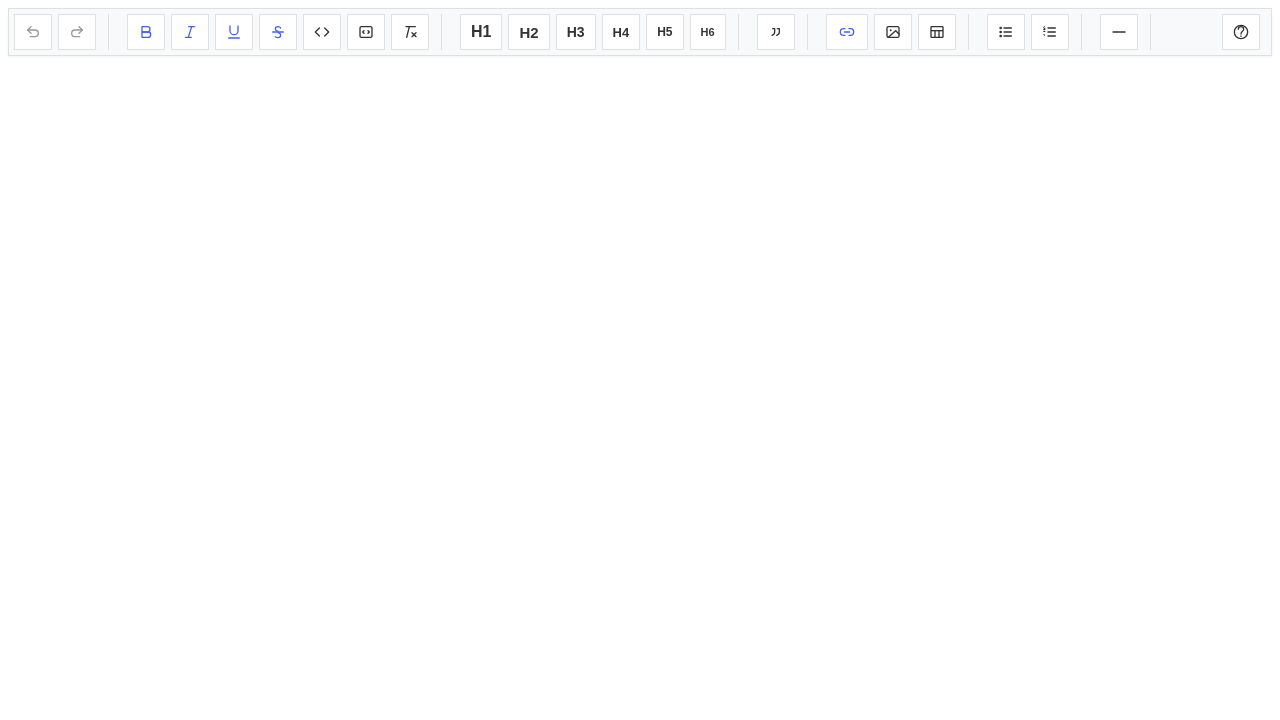
Scenario: ToolbarPlugin Component › image insertion with required alt text › opens the image dialog from the toolbar button
What coordinates should you click on to do the following:
click the button named "Insert Image"
I would click on:
 (893, 32)
Its box is x1=874 y1=14 x2=912 y2=50.
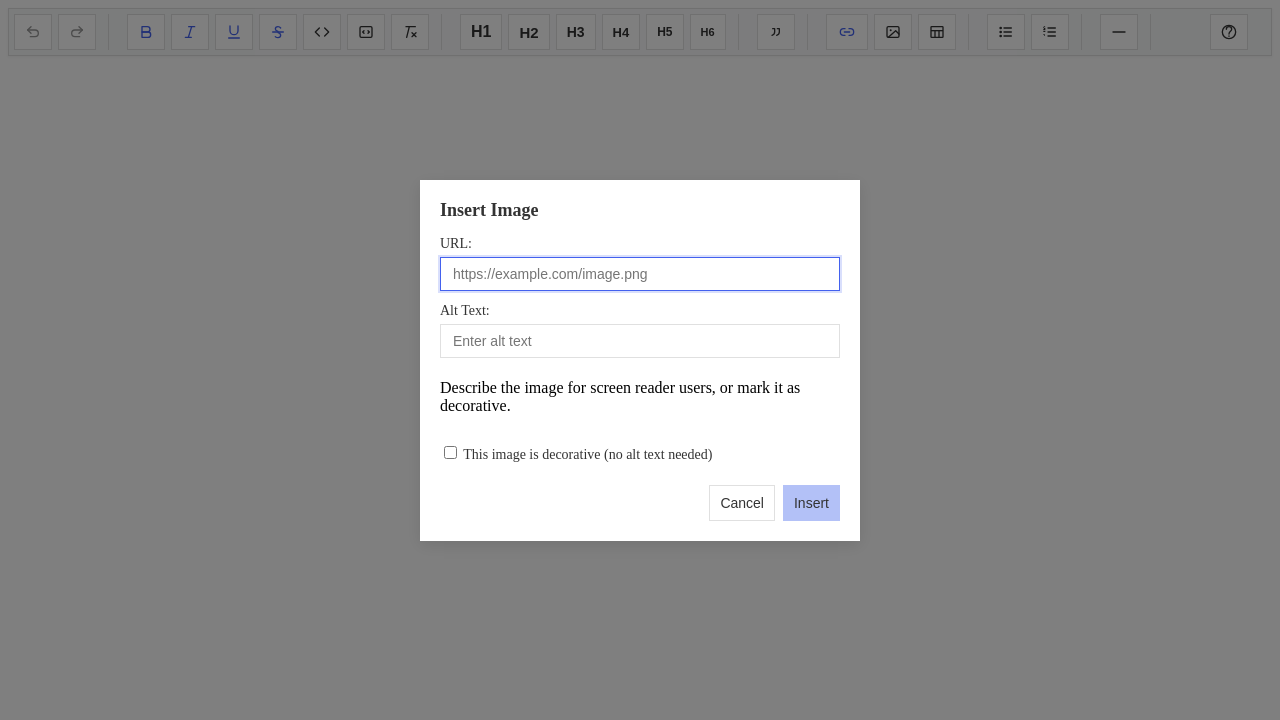
Expected: the dialog "Insert Image" is shown, x1=420 y1=180 x2=860 y2=540
Expected: the field labelled "Alt Text:" is shown, x1=440 y1=324 x2=840 y2=358
Expected: the checkbox labelled "This image is decorative (no alt text needed)" is shown, x1=444 y1=446 x2=457 y2=458
